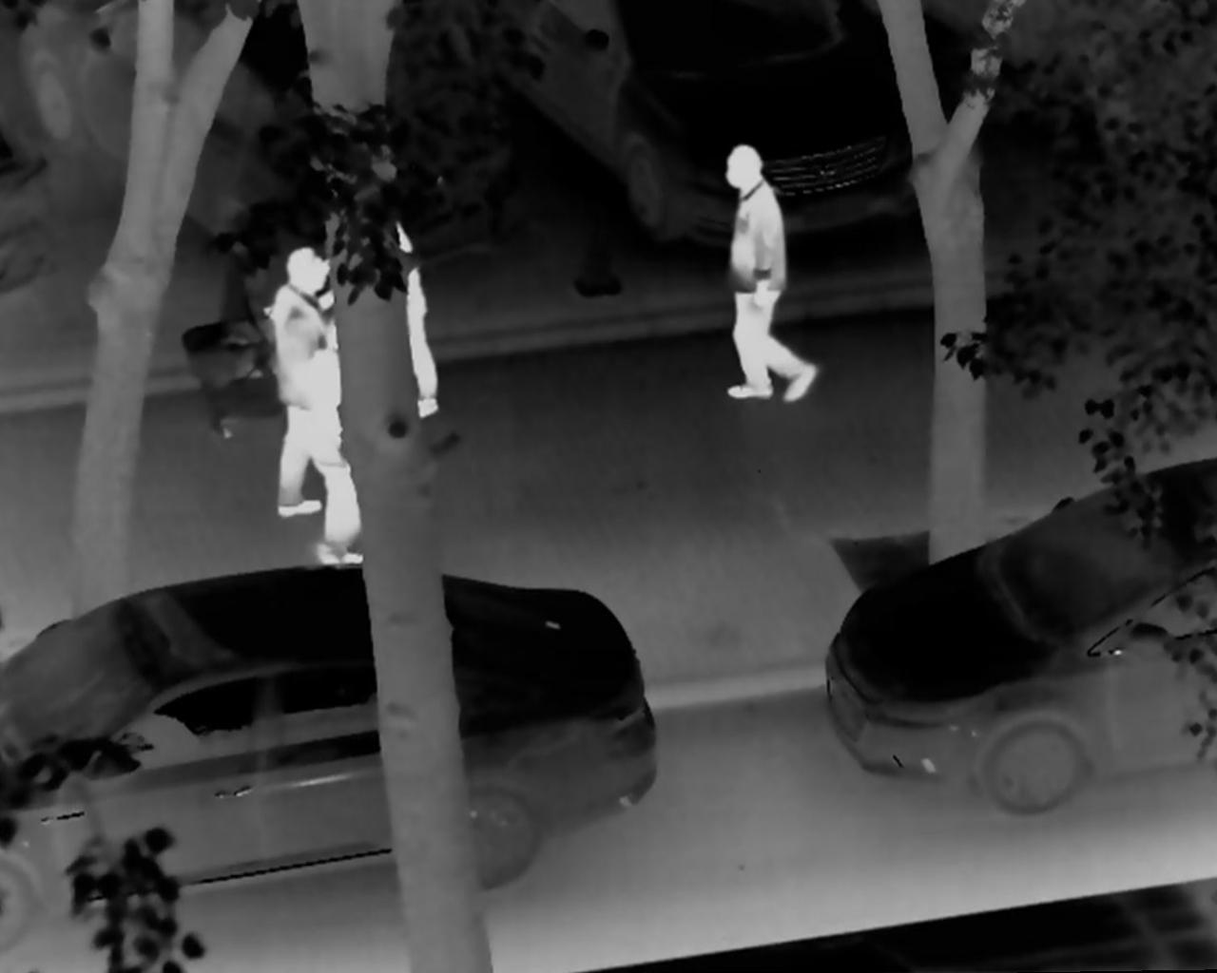person: (265, 186, 442, 429), (709, 146, 826, 407), (309, 318, 402, 569), (266, 245, 345, 522)
